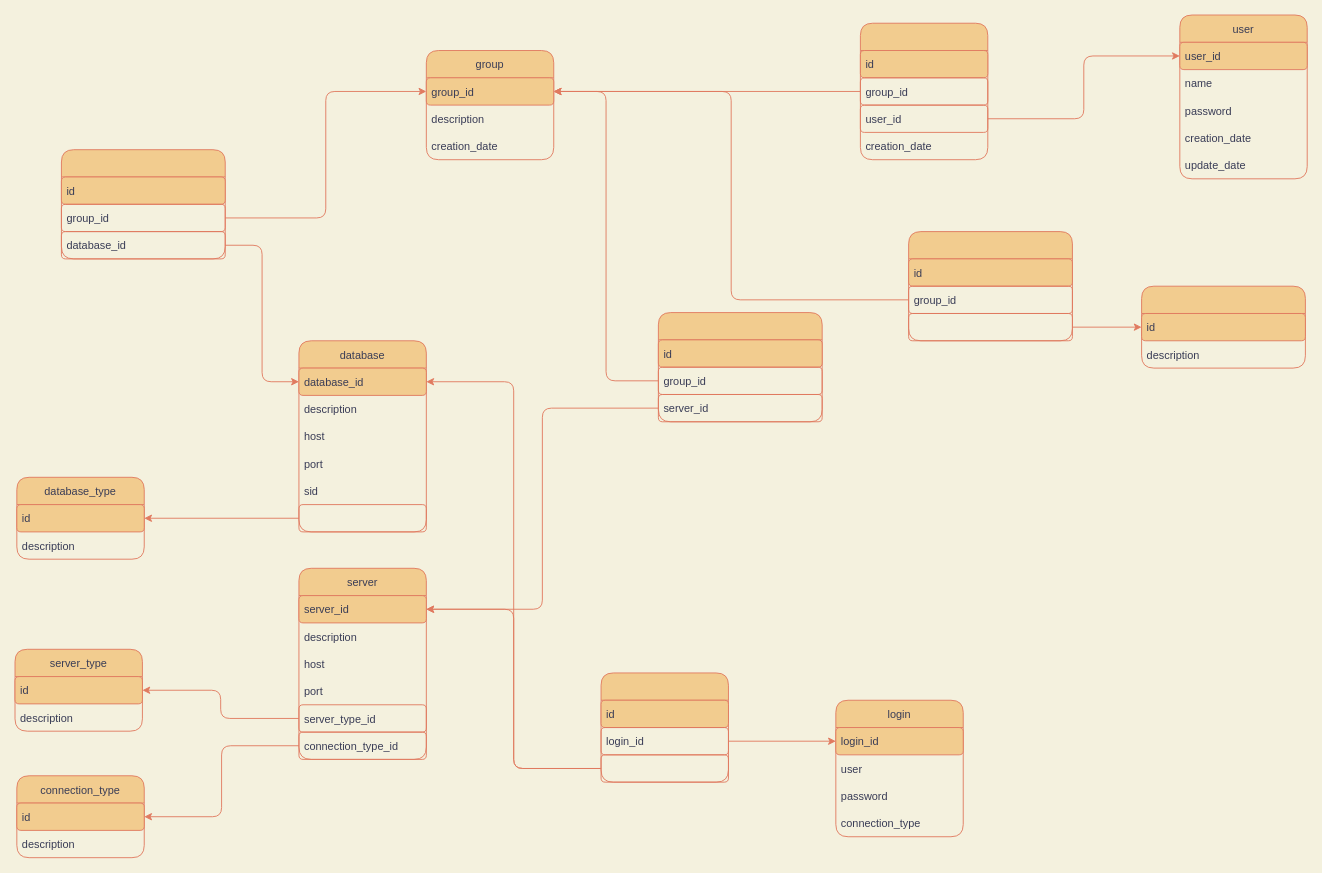
Image size: 1322x873. Some labels were removed from this diagram. Each missing label, with the box of its shape:
connection_id: (600, 754, 728, 782)
connection_login: (600, 672, 728, 782)
database_permissions: (61, 149, 225, 259)
database_type_id: (298, 504, 426, 532)
function_id: (908, 313, 1072, 341)
function_permissions: (908, 231, 1072, 341)
function_type: (1141, 285, 1305, 368)
server_permissions: (657, 312, 822, 422)
user_grp: (859, 22, 988, 160)
